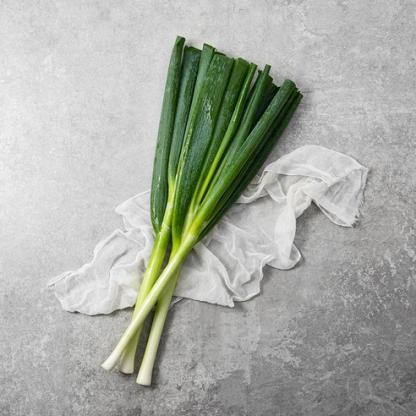green onion: (102, 35, 304, 388)
